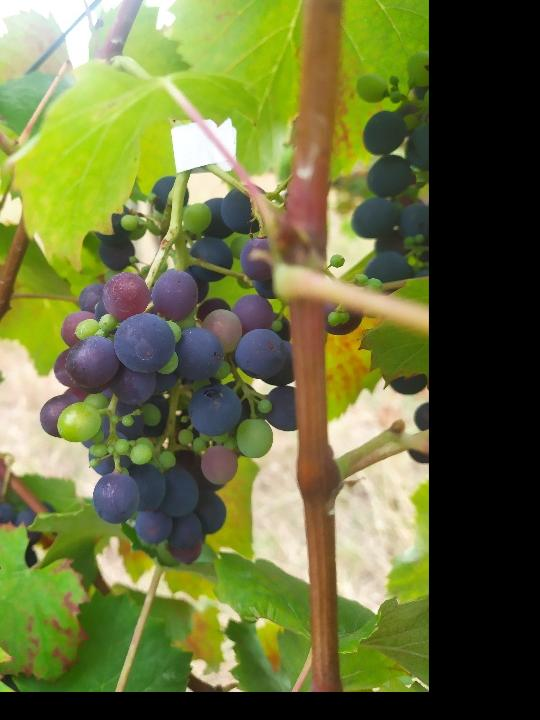grape: (37, 173, 298, 568)
